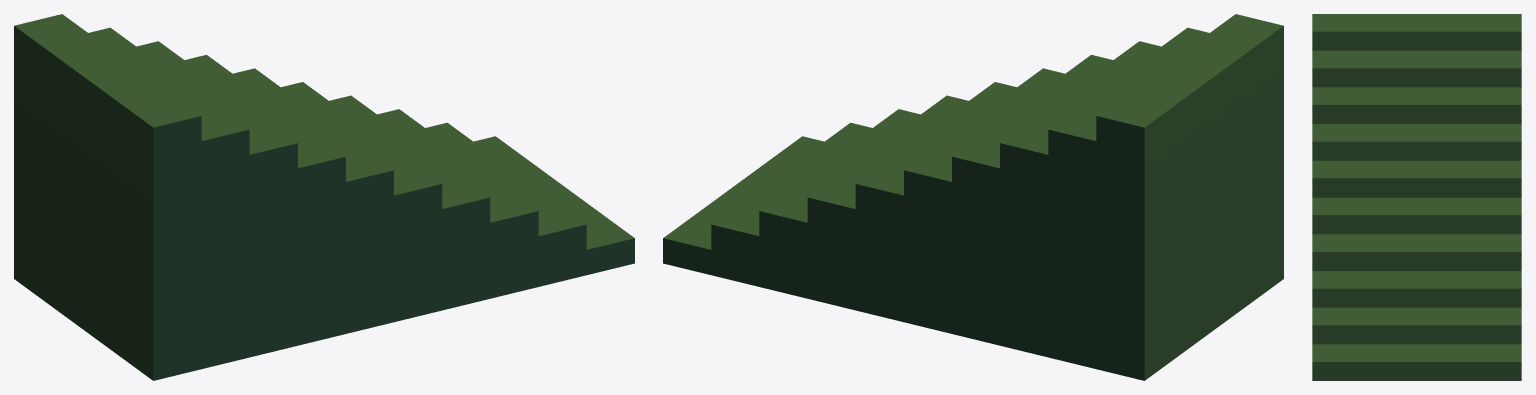
Rendered from stairs.fbx.
3 renders of one model, left to right at view 1: azimuth 30°, elevation 25°; view 2: azimuth 150°, elevation 25°; view 3: azimuth 270°, elevation 25°, orthographic. The views are drawn at different scales.
Visible parts, largest first — view 1: Mesh_Stairs01; view 2: Mesh_Stairs01; view 3: Mesh_Stairs01.
Boxes of the visible parts, x1=… form: Mesh_Stairs01: x1=14, y1=14, x2=634, y2=380; Mesh_Stairs01: x1=663, y1=14, x2=1283, y2=380; Mesh_Stairs01: x1=1312, y1=14, x2=1521, y2=380.
Bounding box in the file's own units: 3.99 × 2 × 2.01.
